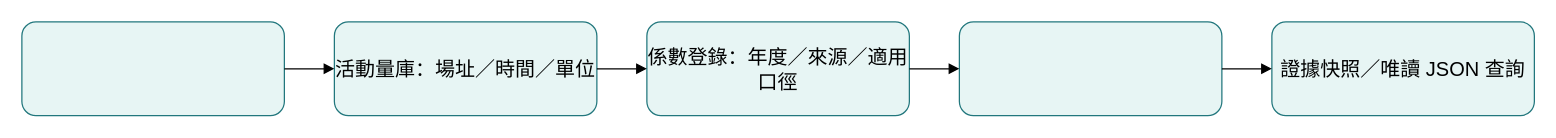
The diagram is 1556 pixels wide and 138 high, and some of its shapes have lost their labels. The shapes that lost their labels are listed below. From the top down, each one's box as (x1, y1, x2, y2) in pixels, then its label:
(21, 21, 284, 116): 電表／帳單／燃料／冷媒台帳
(958, 21, 1222, 116): Python 分範疇計算與覆核
